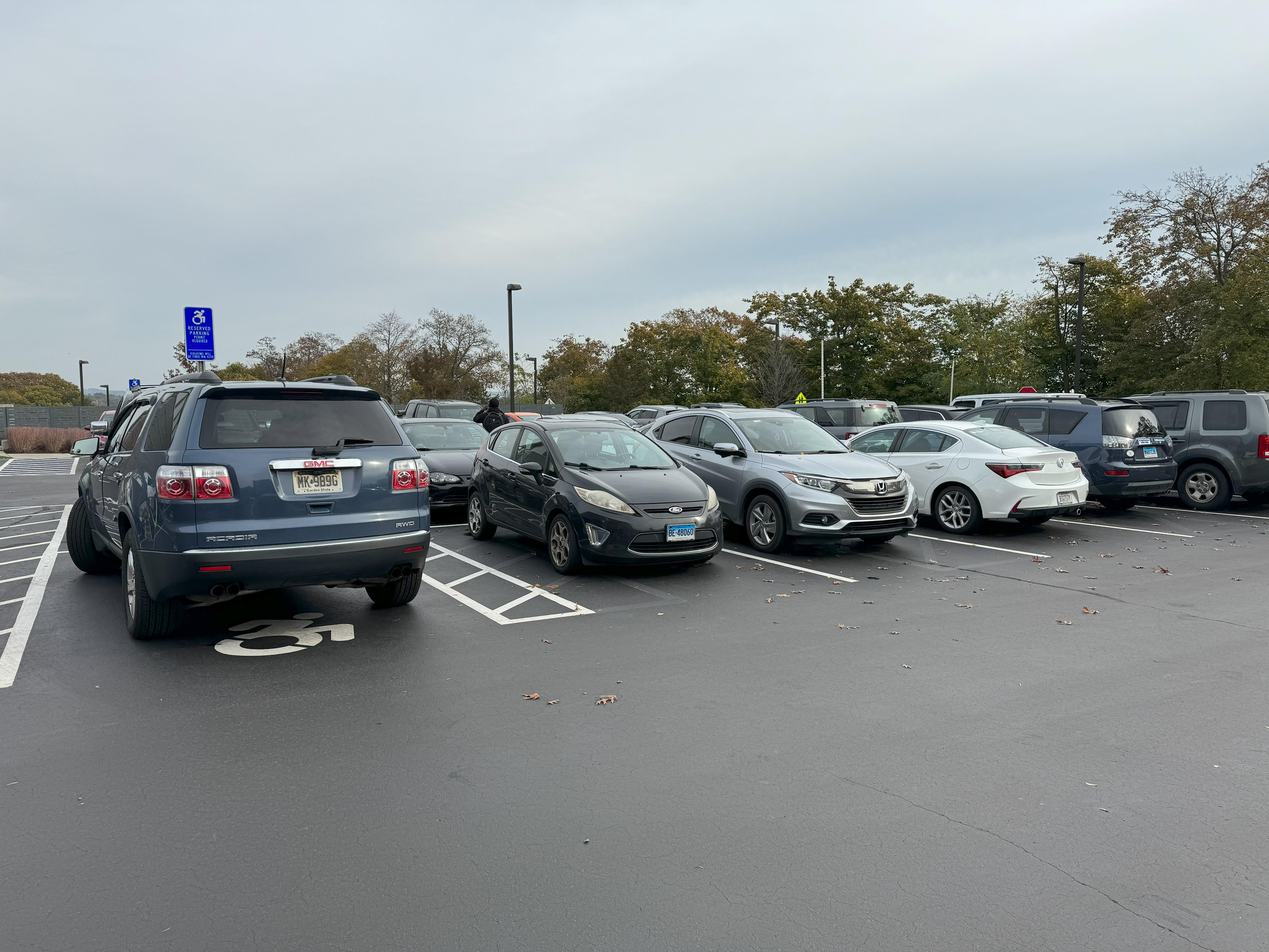occupied: (54, 347, 439, 698), (471, 392, 724, 636), (747, 392, 917, 586), (936, 405, 1093, 577), (1125, 376, 1264, 570)
